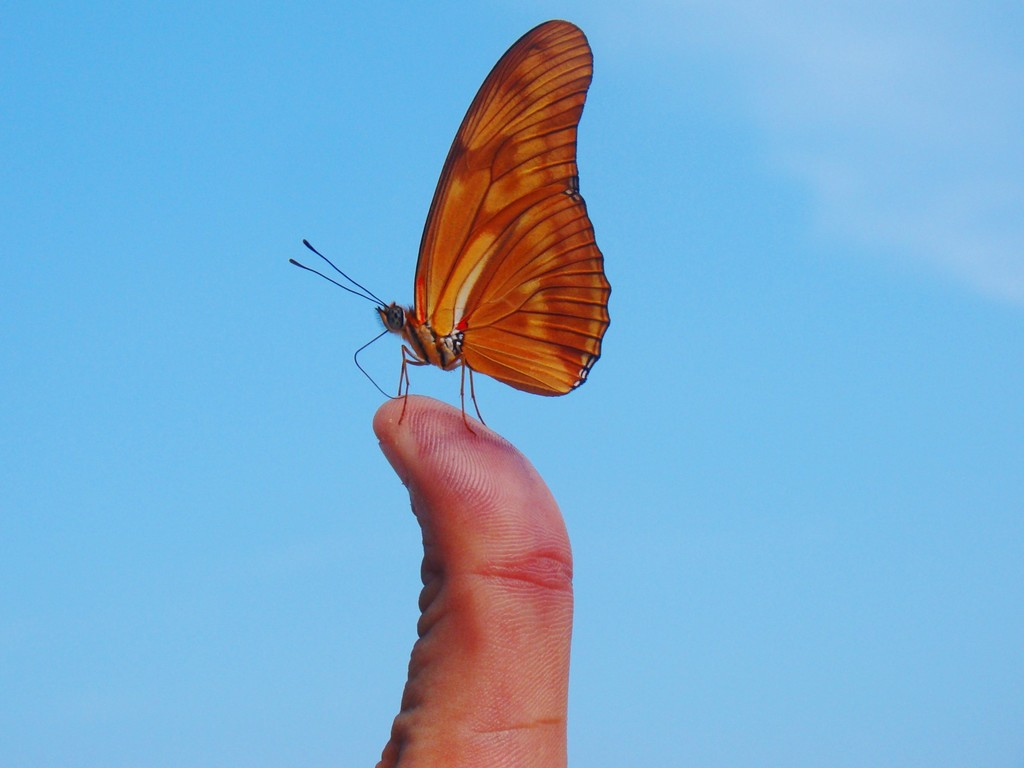Butterfly: (279, 21, 641, 463)
